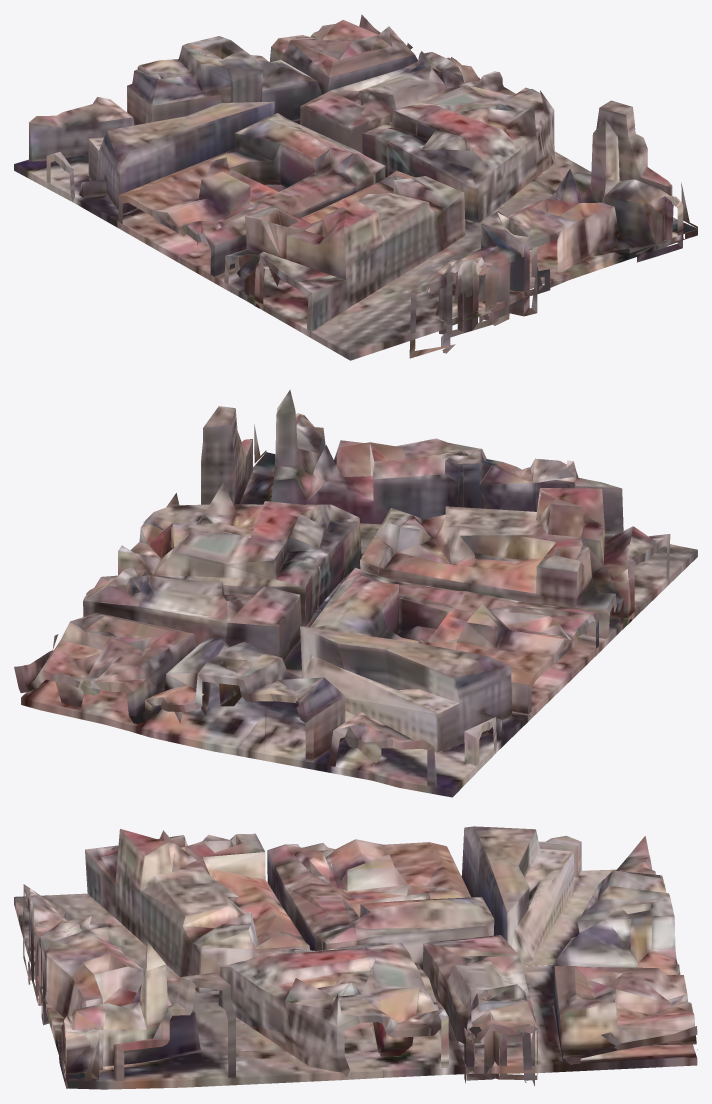
3 views of the same model, one above another, from view 1: azimuth 30°, elevation 25°; view 2: azimuth 150°, elevation 25°; view 3: azimuth 270°, elevation 25° (orthographic). The views are drawn at different scales.
Parts seen in each view (by area): view 1: Mesh_0; view 2: Mesh_0; view 3: Mesh_0.
Boxes of the visible parts, left/top/right/bottom form: Mesh_0: left=14, top=14, right=697, bottom=360; Mesh_0: left=14, top=389, right=697, bottom=797; Mesh_0: left=14, top=826, right=697, bottom=1089.
Bounding box in the file's own units: 266 × 85.35 × 330.
Materials: 1 (1 with a texture image).
